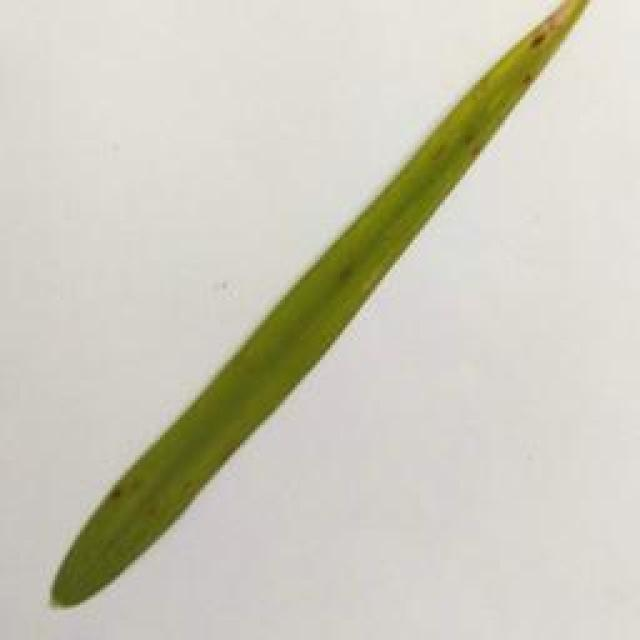Brown_Spot: (522, 24, 552, 54), (462, 129, 489, 160), (108, 486, 142, 510), (426, 137, 454, 166), (336, 257, 358, 285), (522, 69, 538, 87)
